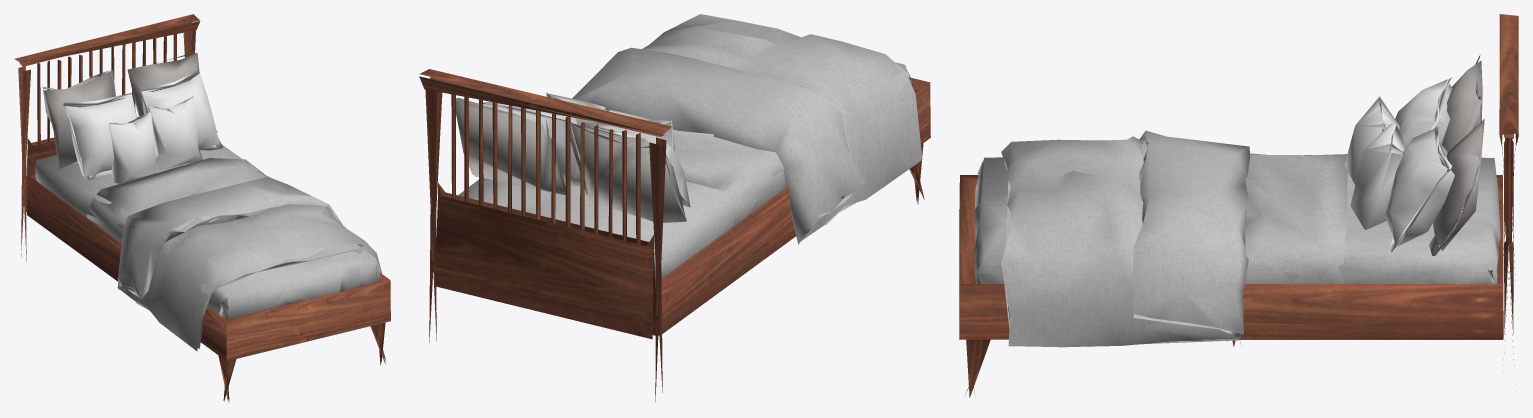
Rendered from Bed.fbx.
The picture shows the model from 3 angles, left to right: view 1: azimuth 30°, elevation 25°; view 2: azimuth 150°, elevation 25°; view 3: azimuth 270°, elevation 25°; orthographic projection. The views are drawn at different scales.
Parts seen in each view (by area): view 1: bed-102432_Frame_Q_Brown; view 2: bed-102432_Frame_Q_Brown; view 3: bed-102432_Frame_Q_Brown.
Boxes of the visible parts, x1=… form: bed-102432_Frame_Q_Brown: x1=14, y1=14, x2=390, y2=402; bed-102432_Frame_Q_Brown: x1=419, y1=14, x2=930, y2=402; bed-102432_Frame_Q_Brown: x1=959, y1=14, x2=1518, y2=397.
Bounding box in the file's own units: 1.4 × 1.3 × 2.4.
5 materials, 3 textured.
